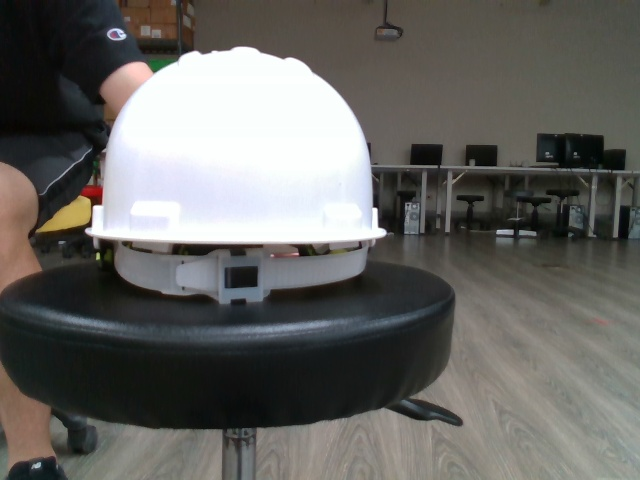helmet: (83, 42, 388, 308)
